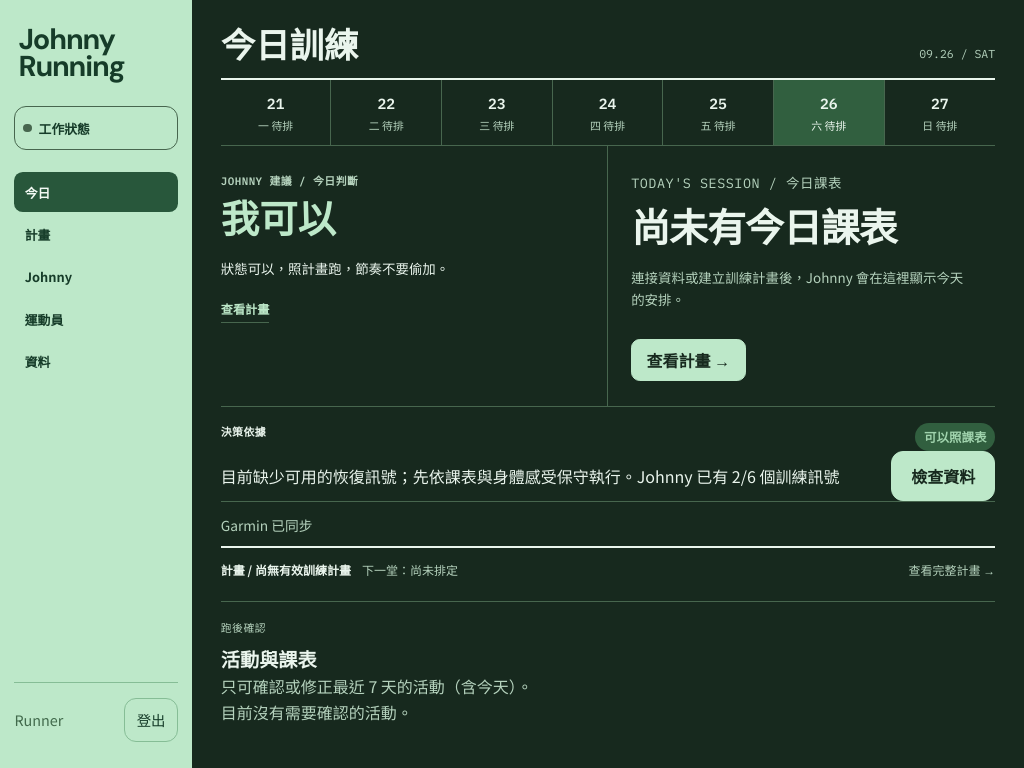
Test: Johnny product shell › shows activity detail coverage separately from general training-signal coverage on Data
The width and height of the screenshot is (1024, 768).
Click the button "資料".
click(96, 362)  # box [14,342,178,381]
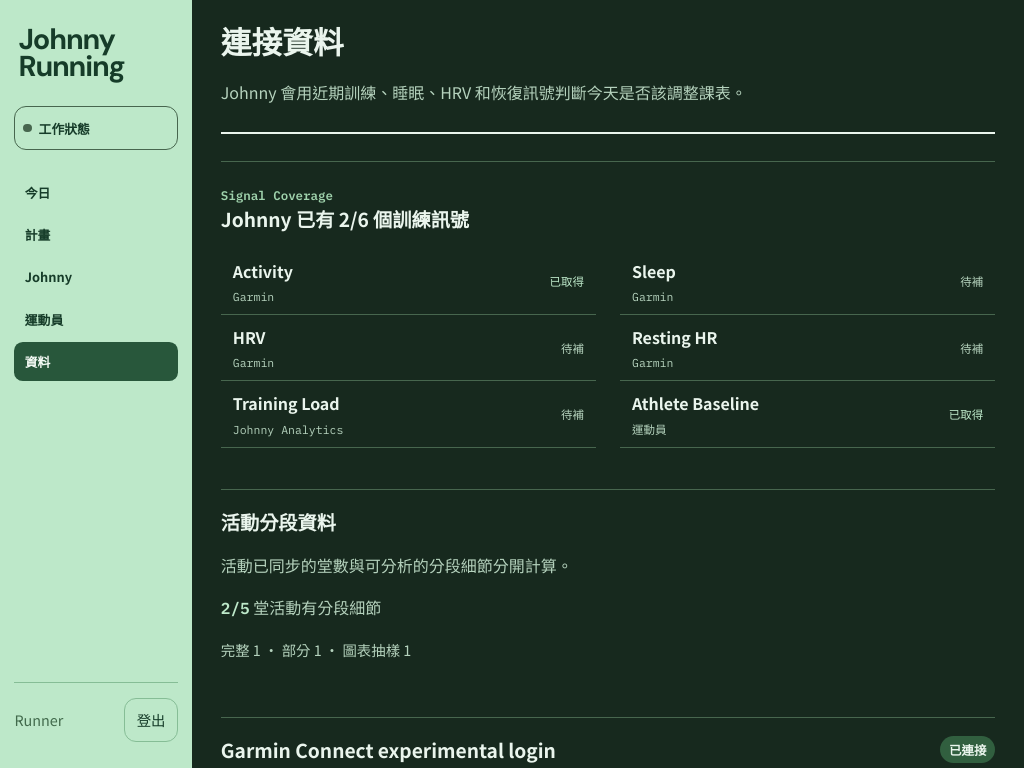
expect the element with test id "activity-detail-coverage" shows "2/5 堂活動有分段細節": met, box [221,489,995,694]
expect the element with test id "activity-detail-coverage" shows "圖表抽樣 1": met, box [221,639,411,660]
expect the element with test id "signal-coverage" shows "訓練訊號": met, box [221,205,469,233]
